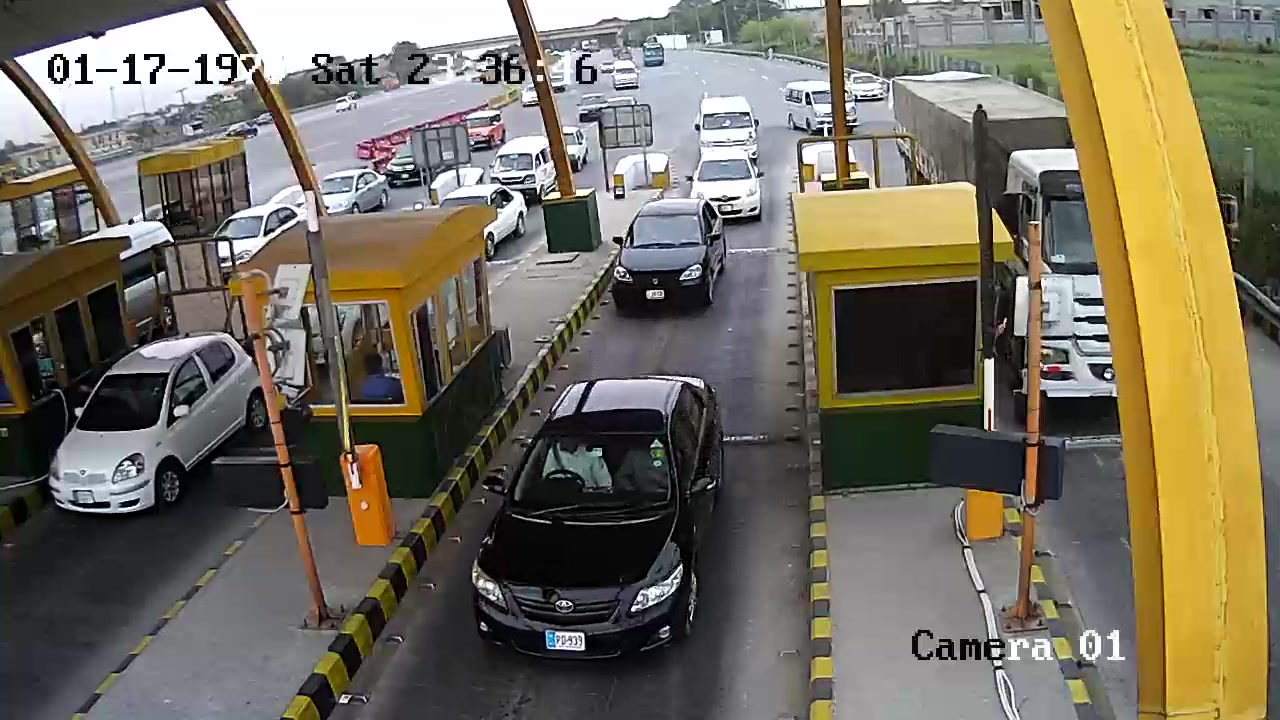F1: (462, 369, 731, 666), (611, 189, 728, 324)
